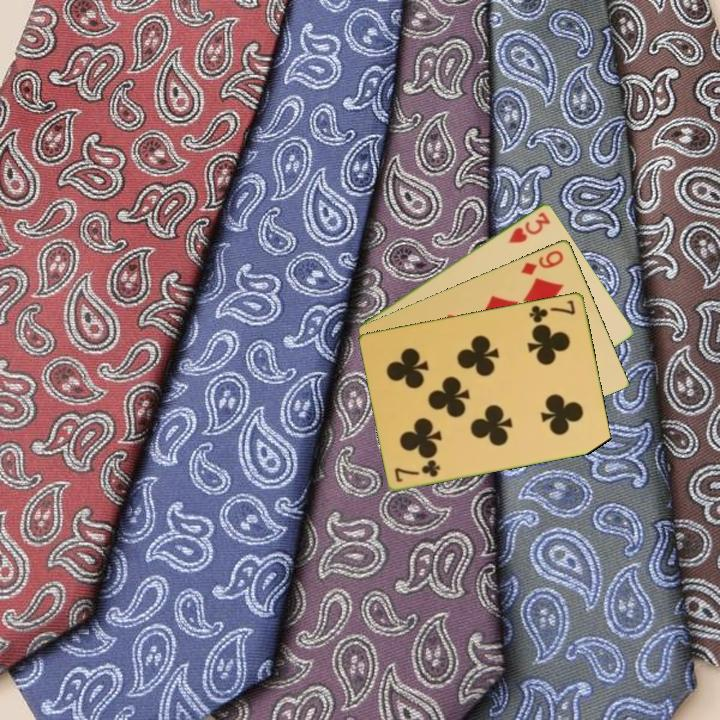3h: (505, 208, 553, 246)
7c: (526, 296, 579, 326), (391, 457, 443, 485)
9d: (517, 246, 567, 278)
